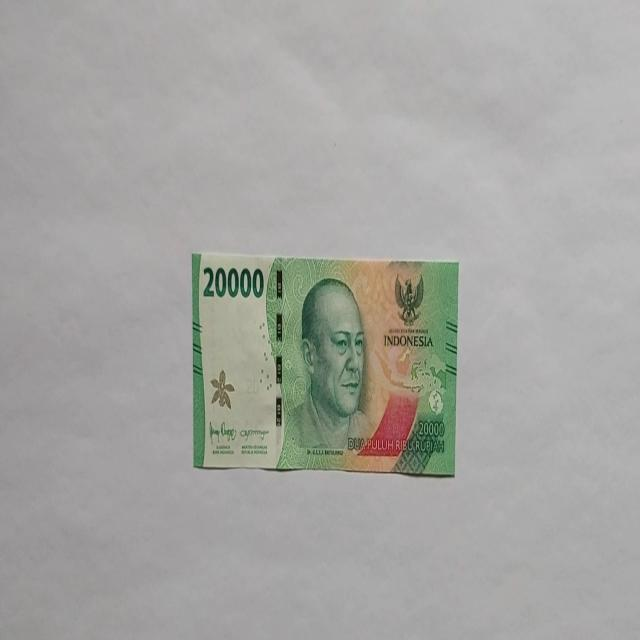dua puluh ribu rupiah: (191, 250, 459, 476), (278, 276, 378, 470)
